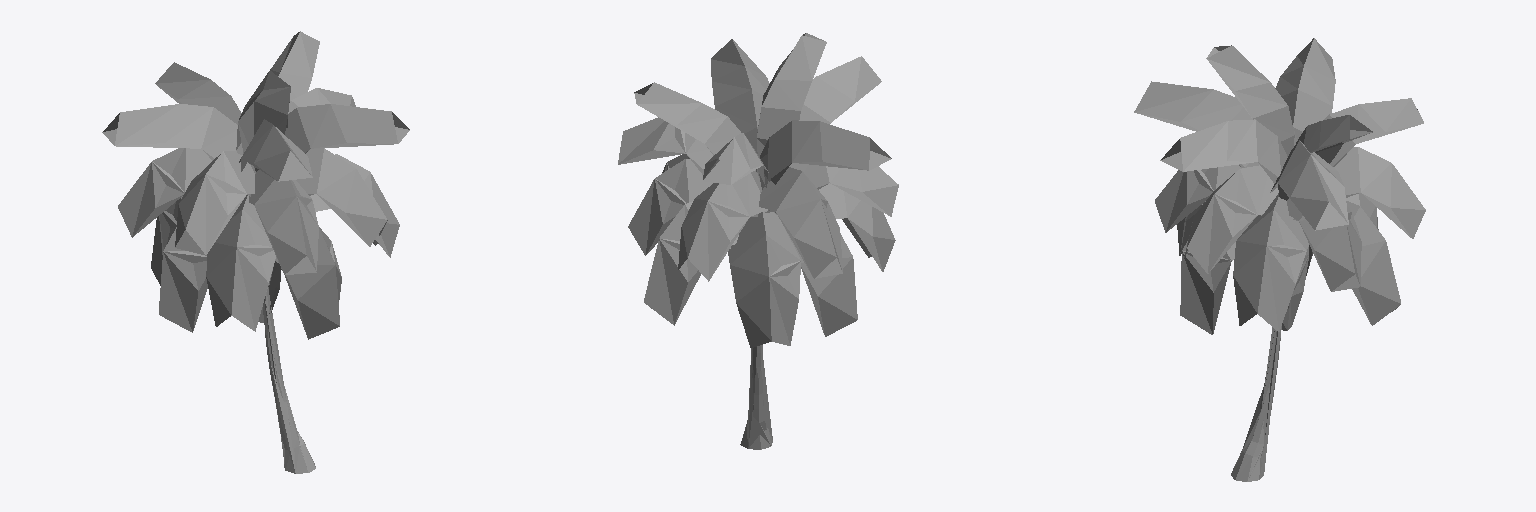
Rendered from Palm01_blender.obj.
The picture shows the model from 3 angles: view 1: azimuth 30°, elevation 25°; view 2: azimuth 150°, elevation 25°; view 3: azimuth 270°, elevation 25°; orthographic projection.
Visible parts, largest first — view 1: Untitled.001_PalmOne128, Untitled_PalmOne256, Untitled.002_PalmOne96; view 2: Untitled.001_PalmOne128, Untitled_PalmOne256, Untitled.002_PalmOne96; view 3: Untitled.001_PalmOne128, Untitled_PalmOne256, Untitled.002_PalmOne96.
Part boxes in pixels (x1,y1,x2,y2): Untitled.001_PalmOne128: (103,71,409,472); Untitled_PalmOne256: (115,31,397,473); Untitled.002_PalmOne96: (102,86,409,469); Untitled.001_PalmOne128: (618,33,898,441); Untitled_PalmOne256: (637,35,881,449); Untitled.002_PalmOne96: (619,33,890,448); Untitled.001_PalmOne128: (1155,45,1425,479); Untitled_PalmOne256: (1134,38,1423,481); Untitled.002_PalmOne96: (1137,48,1419,447).
Bounding box in the file's own units: 7 × 10.36 × 6.66.